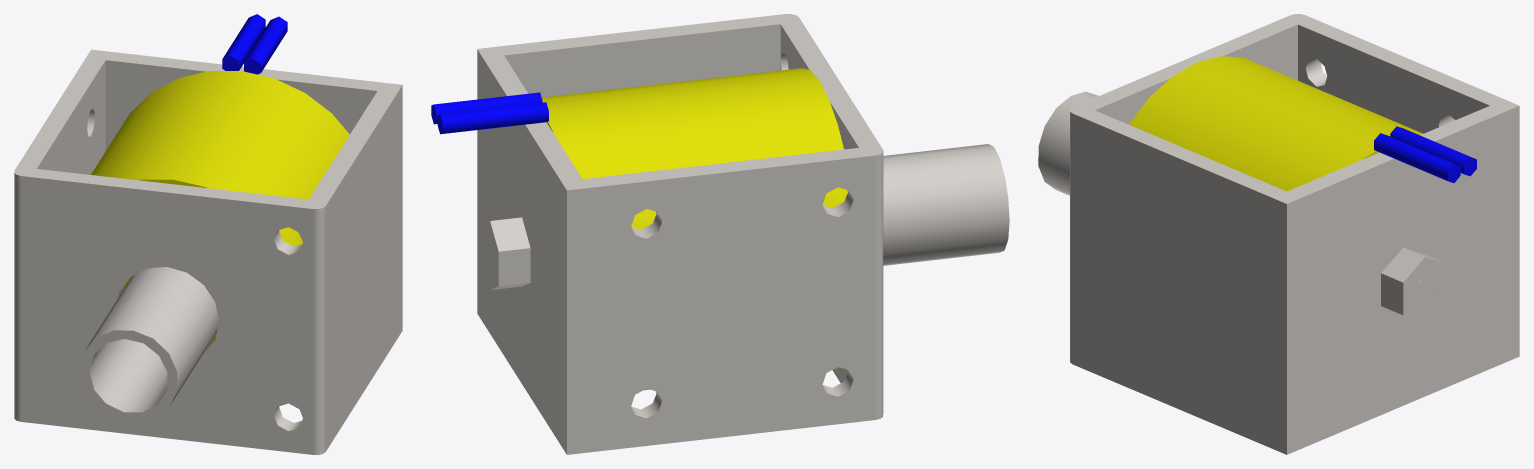
The model's file is 07_elektromagnitnye-bblokiratory.glb.
3 renders of one model, left to right at view 1: azimuth 30°, elevation 25°; view 2: azimuth 150°, elevation 25°; view 3: azimuth 270°, elevation 25°, orthographic. The views are drawn at different scales.
Visible parts, largest first — view 1: 07_elektromagnitnye-blokiratory; view 2: 07_elektromagnitnye-blokiratory; view 3: 07_elektromagnitnye-blokiratory.
Part boxes in pixels (box(x1,y1,x2,y2)): 07_elektromagnitnye-blokiratory: box(14, 14, 402, 454); 07_elektromagnitnye-blokiratory: box(431, 14, 1009, 454); 07_elektromagnitnye-blokiratory: box(1038, 14, 1519, 454).
Size of the model in its own units: 0.0461 by 0.029 by 0.0461.
